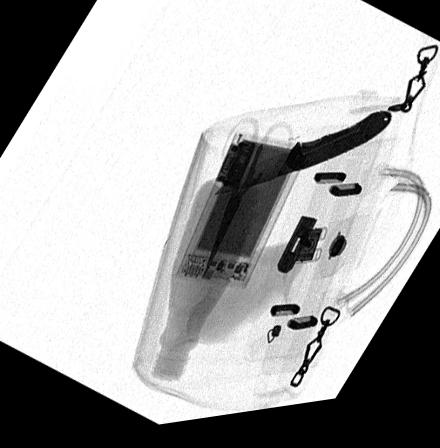Knife: (210, 124, 390, 202)
Powerbank: (173, 142, 307, 297)
Scissors: (198, 122, 291, 287)
